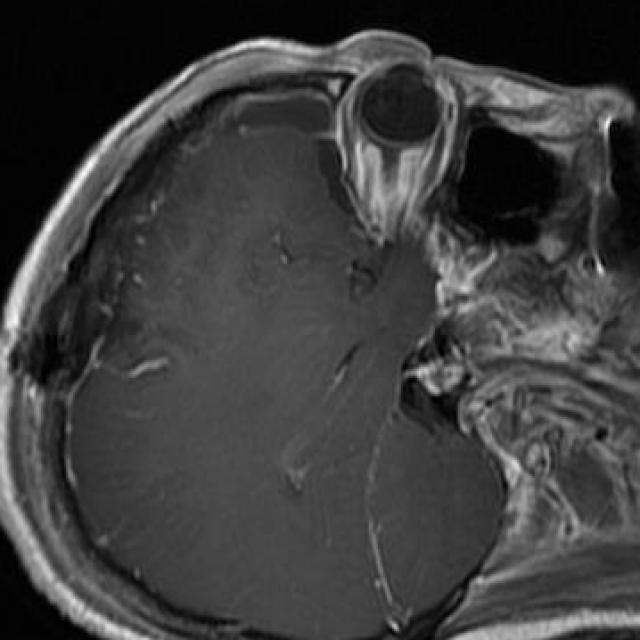glioma: (59, 258, 139, 382)
